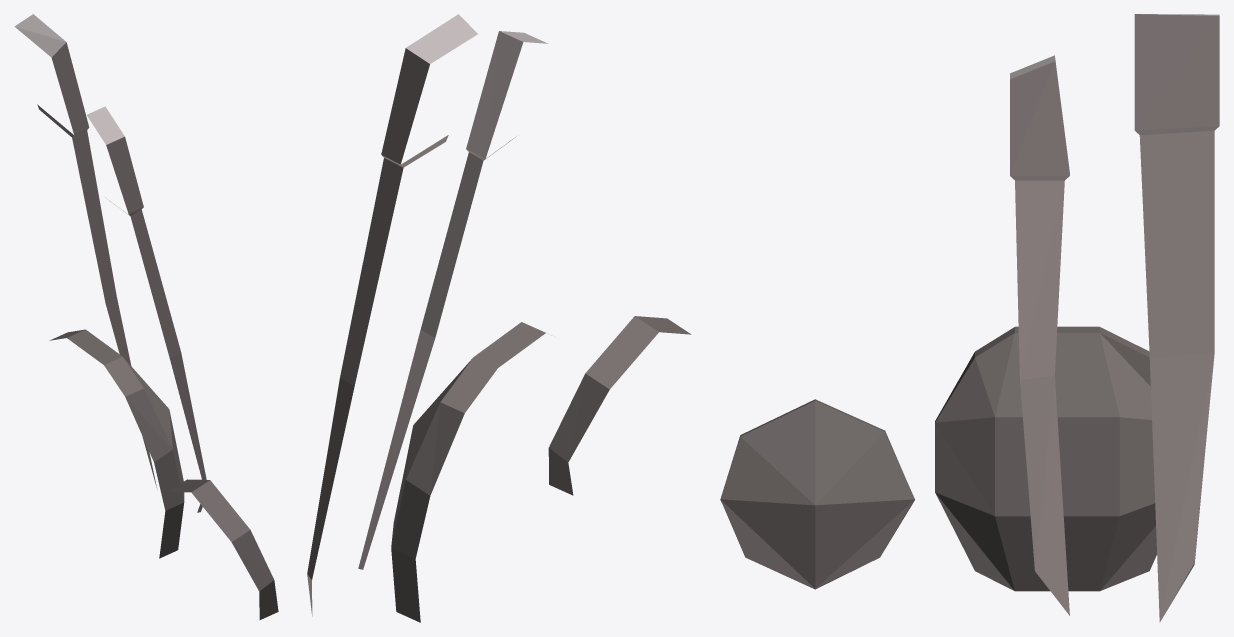
3 views of the same model, side by side, from view 1: azimuth 30°, elevation 25°; view 2: azimuth 150°, elevation 25°; view 3: azimuth 270°, elevation 25° (orthographic). The views are drawn at different scales.
Bounding box in the file's own units: 32 × 123 × 100.
1 material, 1 textured.
